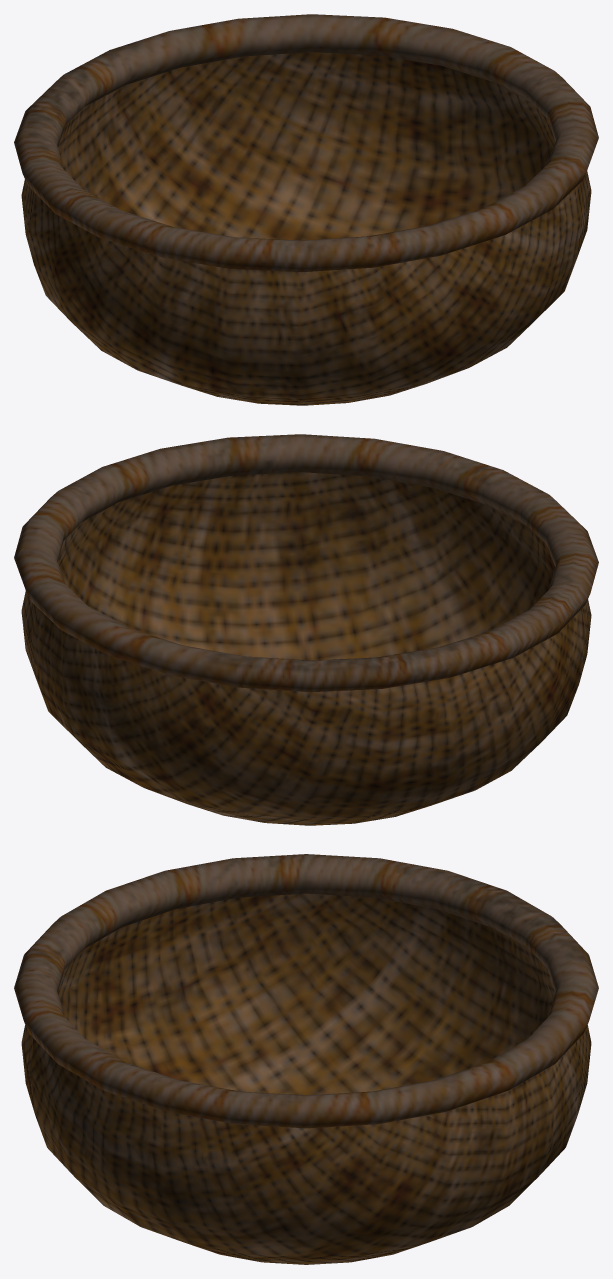
File: bamboo_basket.glb
3 views of the same model, one above another, from view 1: azimuth 30°, elevation 25°; view 2: azimuth 150°, elevation 25°; view 3: azimuth 270°, elevation 25° (orthographic). The views are drawn at different scales.
Parts seen in each view (by area): view 1: SM_Bamboo_Basket; view 2: SM_Bamboo_Basket; view 3: SM_Bamboo_Basket.
Boxes of the visible parts, <box> form: SM_Bamboo_Basket: <box>14,14,598,405</box>; SM_Bamboo_Basket: <box>14,434,598,825</box>; SM_Bamboo_Basket: <box>14,854,598,1264</box>.
Bounding box in the file's own units: 0.5365 × 0.23 × 0.5139.
Materials: 1 (1 with a texture image).
